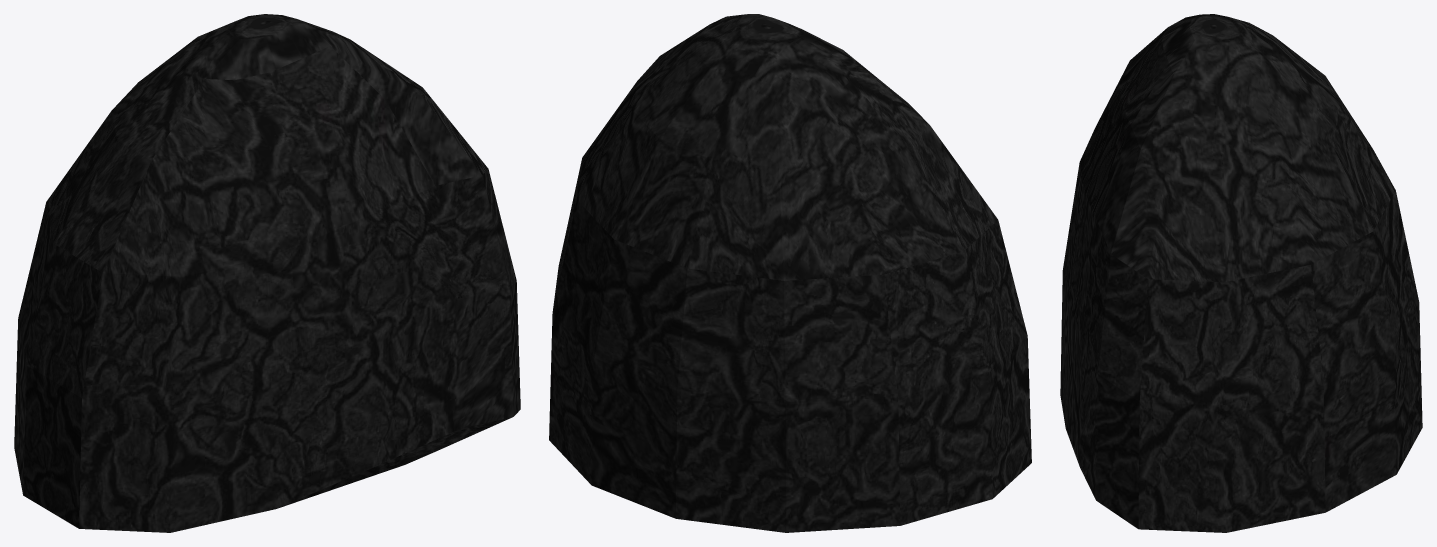
The model's file is damjeng.fbx.
3 views of the same model, side by side, from view 1: azimuth 30°, elevation 25°; view 2: azimuth 150°, elevation 25°; view 3: azimuth 270°, elevation 25° (orthographic). The views are drawn at different scales.
Parts seen in each view (by area): view 1: 원형; view 2: 원형; view 3: 원형.
Boxes of the visible parts, box(x1,y1,x2,y2) form: 원형: box(14, 14, 520, 532); 원형: box(549, 14, 1031, 532); 원형: box(1060, 14, 1422, 532).
Size of the model in its own units: 173 by 160 by 123.
Materials: 1 (1 with a texture image).
